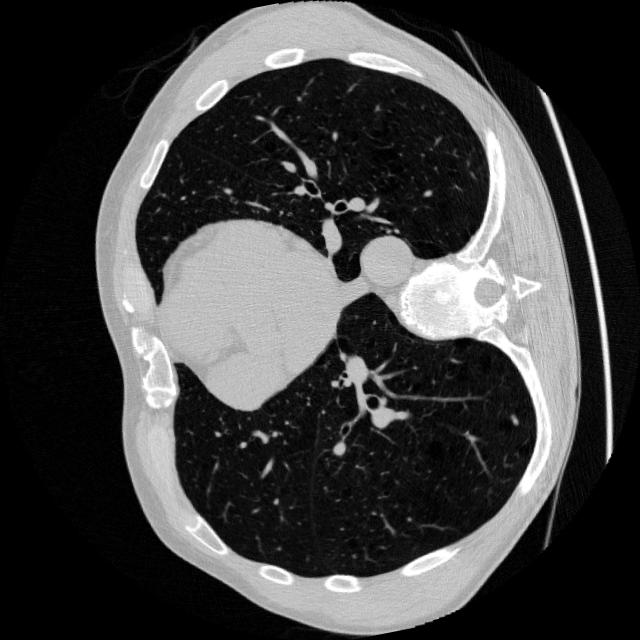nodule: (502, 410, 526, 432)
